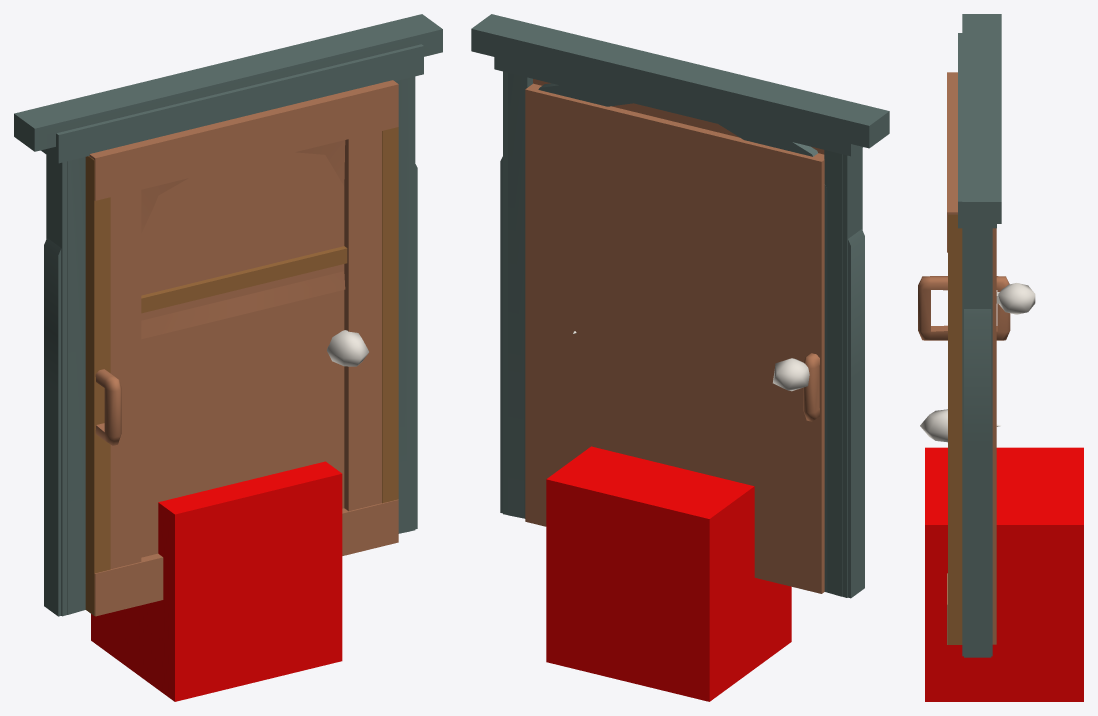
Rendered from Door_Prefab (1).fbx.
3 renders of one model, left to right at view 1: azimuth 30°, elevation 25°; view 2: azimuth 150°, elevation 25°; view 3: azimuth 270°, elevation 25°, orthographic. The views are drawn at different scales.
Visible parts, largest first — view 1: Door, Entry_Exit_Zone, BarnDoorFrame, GlassDoor, Door_Frame, ArchDoorFrame, ArchDoor, BarnDoor; view 2: BarnDoor, Entry_Exit_Zone, BarnDoorFrame, ArchDoorFrame, Door_Frame, ArchDoor, GlassDoor; view 3: Entry_Exit_Zone, ArchDoorFrame, BarnDoorFrame, GlassDoor, Door_Frame, BarnDoor, Door, ArchDoor.
Boxes of the visible parts, x1,y1,x2,y2 form: Door: (89,80,398,616); Entry_Exit_Zone: (91,461,342,701); BarnDoorFrame: (14,14,442,614); GlassDoor: (85,127,398,615); Door_Frame: (41,44,423,616); ArchDoorFrame: (44,164,417,616); ArchDoor: (141,140,345,339); BarnDoor: (327,330,368,366); BarnDoor: (525,83,824,593); Entry_Exit_Zone: (546,446,791,701); BarnDoorFrame: (471,14,889,596); ArchDoorFrame: (500,83,864,598); Door_Frame: (494,57,863,597); ArchDoor: (612,103,809,391); GlassDoor: (803,353,819,421); Entry_Exit_Zone: (925,447,1083,701); ArchDoorFrame: (964,309,991,657); BarnDoorFrame: (962,14,1001,223); GlassDoor: (918,214,1010,644); Door_Frame: (958,33,996,656); BarnDoor: (920,228,1000,644); Door: (947,72,957,644); ArchDoor: (996,283,1035,314).
Bounding box in the file's own units: 2.8 × 3.86 × 1.04.
